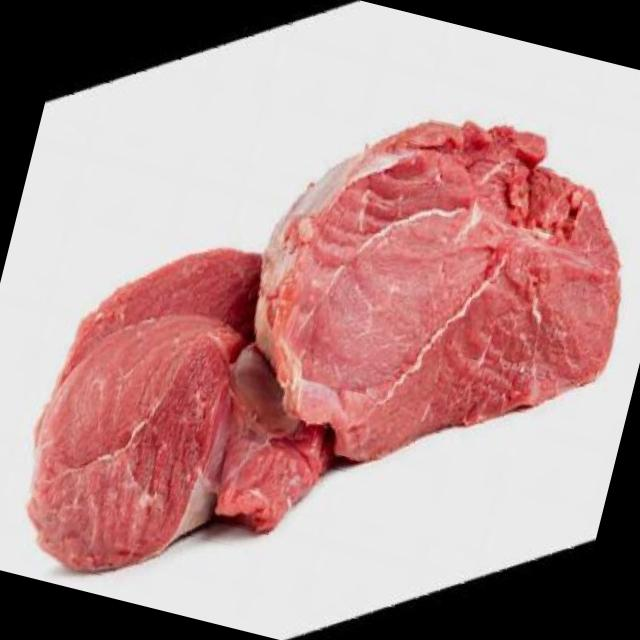beef: (202, 72, 640, 529), (0, 197, 392, 636)
